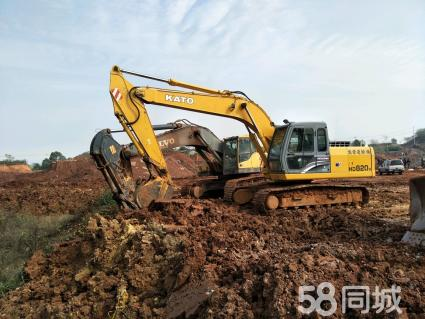excavator: (106, 60, 379, 217)
